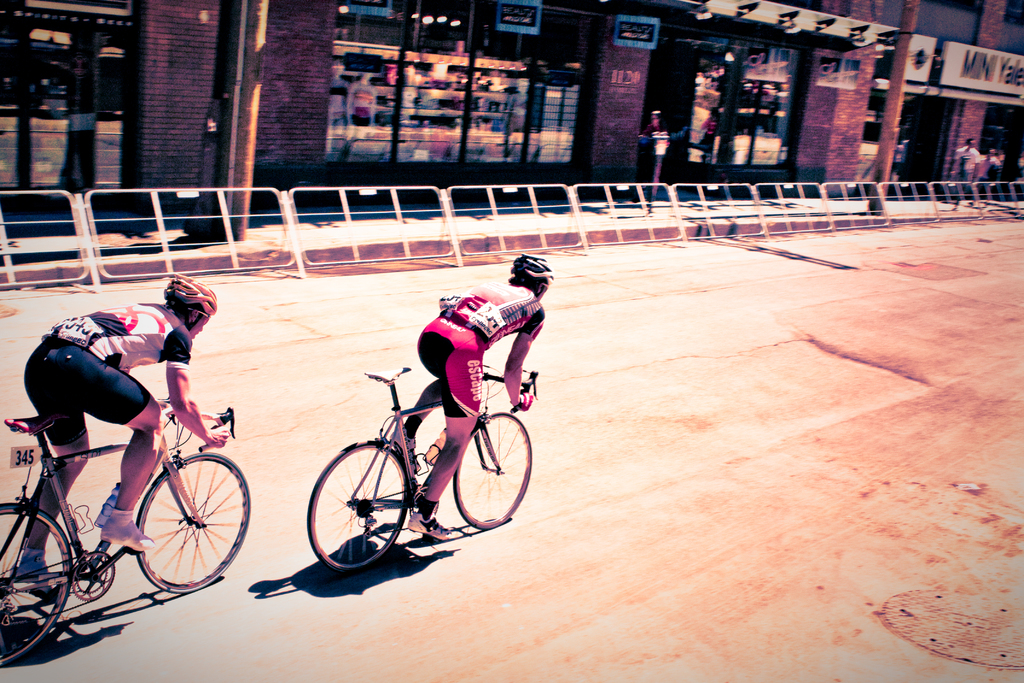Bike_away: (13, 398, 259, 661), (298, 343, 552, 589)
